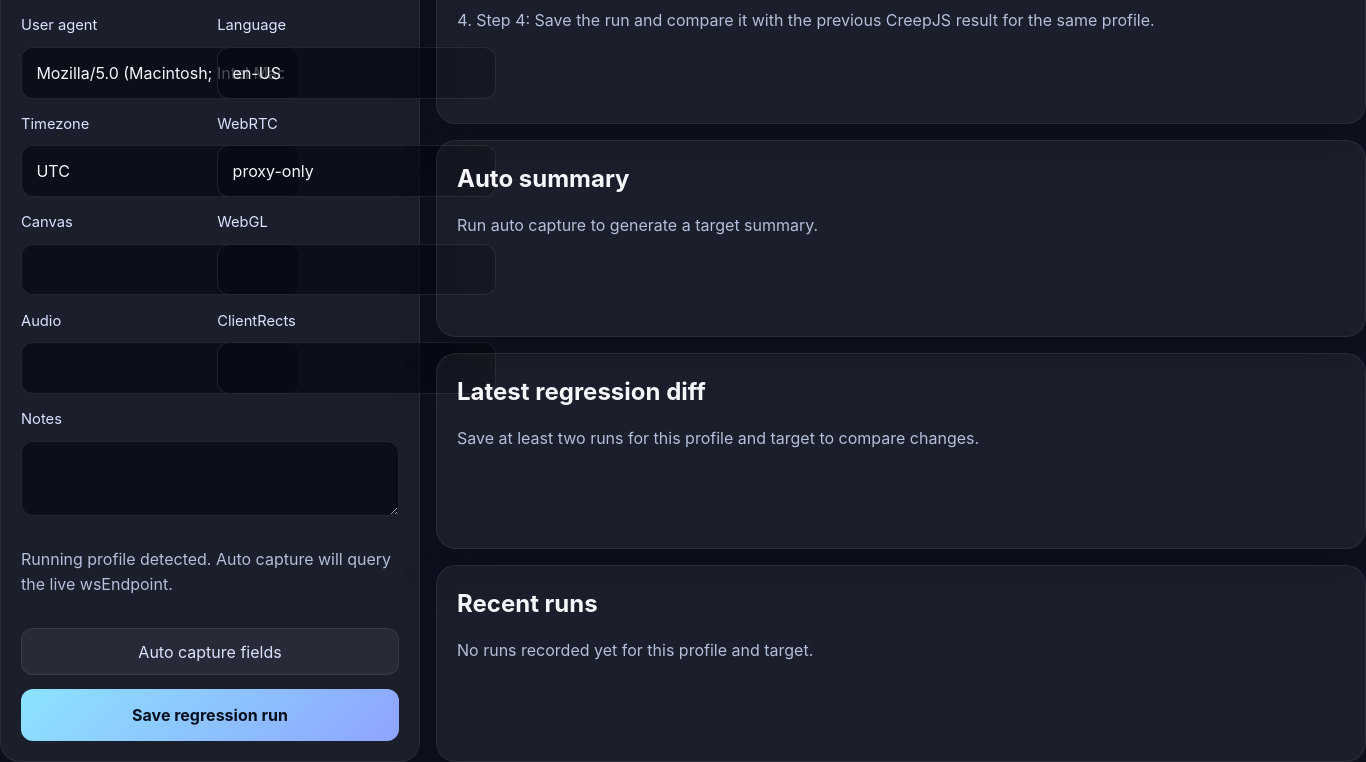
Scenario: AutomationPage › shows a summary fallback when capture artifacts are unavailable
The image size is (1366, 762).
(page scrolled)
Step 1. Click the button "Auto capture fields" → (210, 652), box [21, 628, 399, 675]
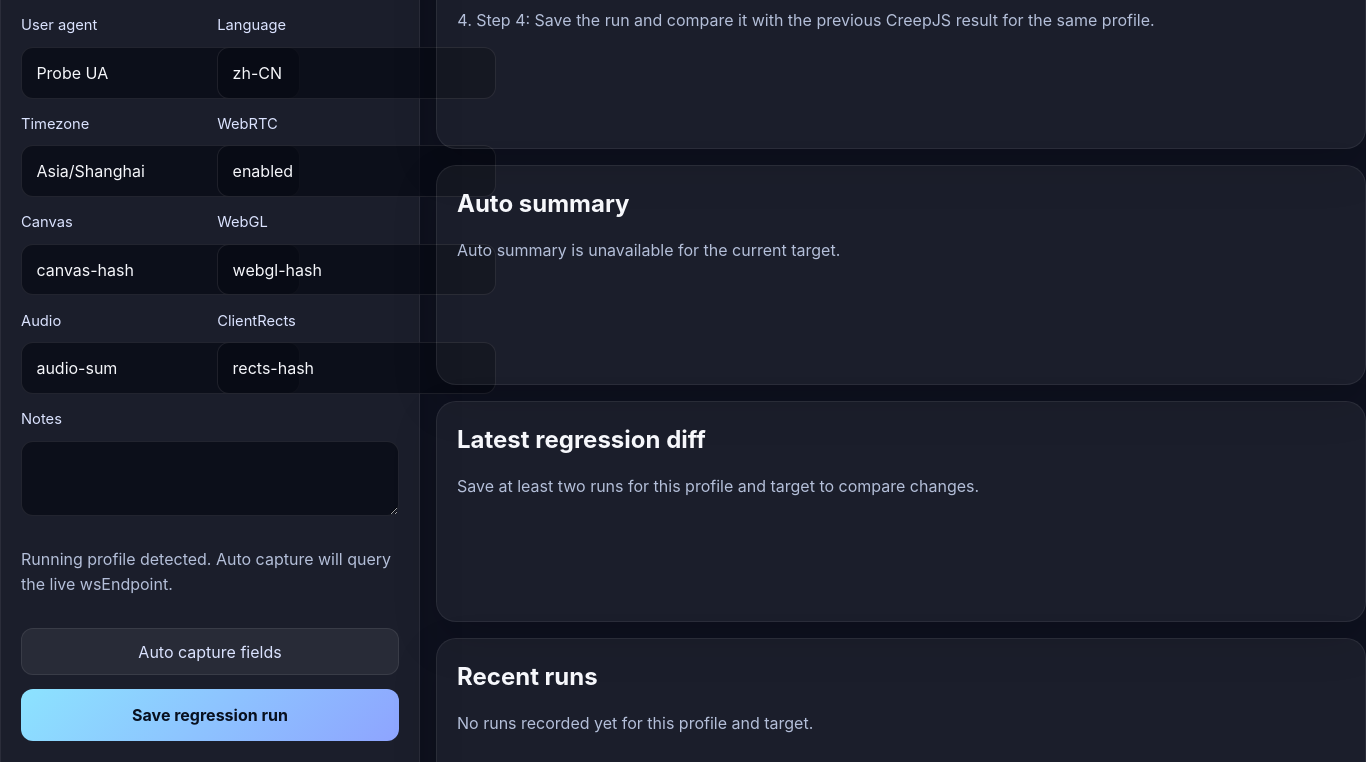
expect the heading "Auto summary" is shown: met, box [457, 189, 630, 218]
expect the text "Auto summary is unavailable for the current target." is shown: met, box [457, 240, 840, 260]
expect the field labelled "Timezone" holds "Asia/Shanghai": met, box [21, 145, 300, 197]
